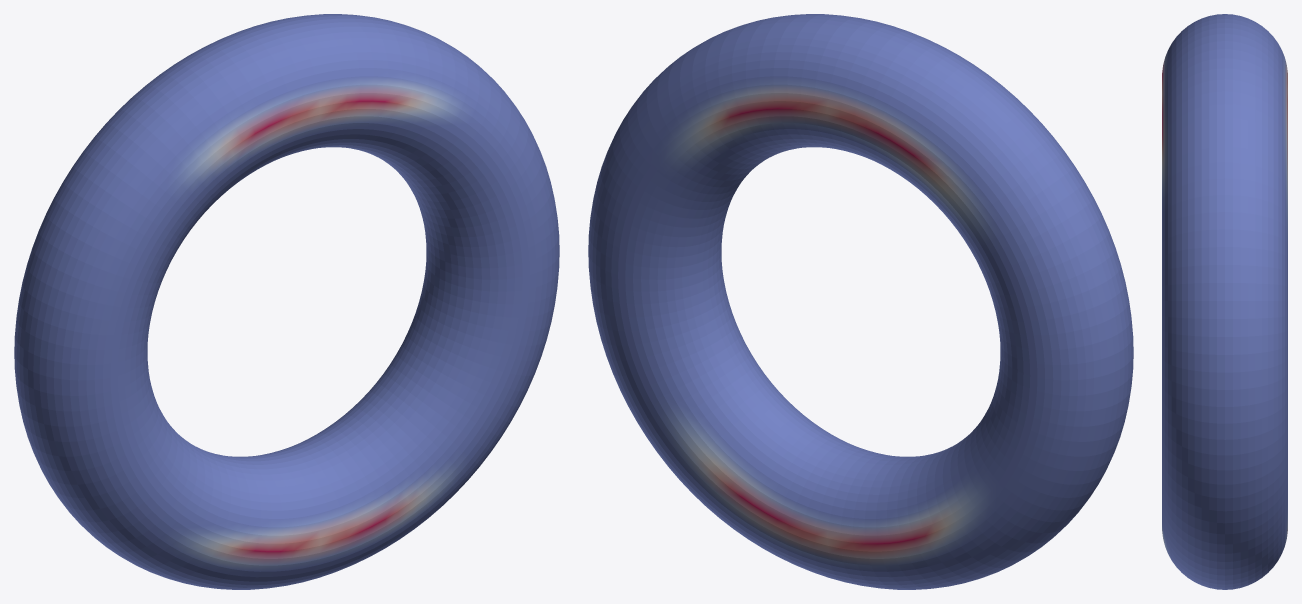
The picture shows the model from 3 angles, left to right: view 1: azimuth 30°, elevation 25°; view 2: azimuth 150°, elevation 25°; view 3: azimuth 270°, elevation 25°; orthographic projection. The views are drawn at different scales.
Parts seen in each view (by area): view 1: world; view 2: world; view 3: world.
Boxes of the visible parts, <box> form: world: <box>14,14,559,589</box>; world: <box>588,14,1133,589</box>; world: <box>1162,14,1287,589</box>.
Bounding box in the file's own units: 12.8 × 12.8 × 2.79.
